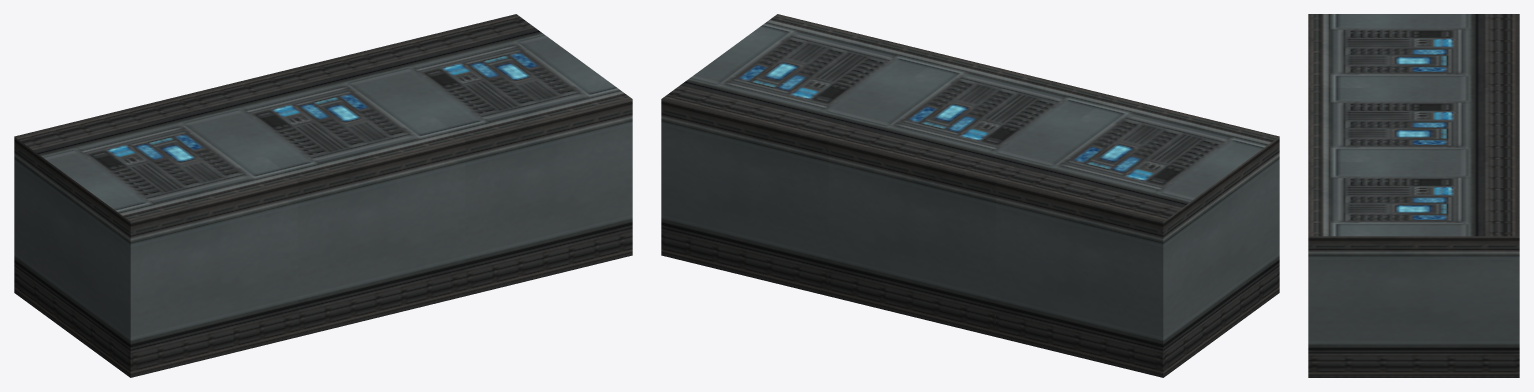
Rendered from computador-interno4.fbx.
The picture shows the model from 3 angles, left to right: view 1: azimuth 30°, elevation 25°; view 2: azimuth 150°, elevation 25°; view 3: azimuth 270°, elevation 25°; orthographic projection. The views are drawn at different scales.
Parts seen in each view (by area): view 1: Cylinder; view 2: Cylinder; view 3: Cylinder.
Boxes of the visible parts, x1,y1,x2,y2 form: Cylinder: [14, 14, 632, 377]; Cylinder: [661, 14, 1279, 377]; Cylinder: [1308, 14, 1519, 377].
Size of the model in its own units: 2.97 by 0.8827 by 1.19.
